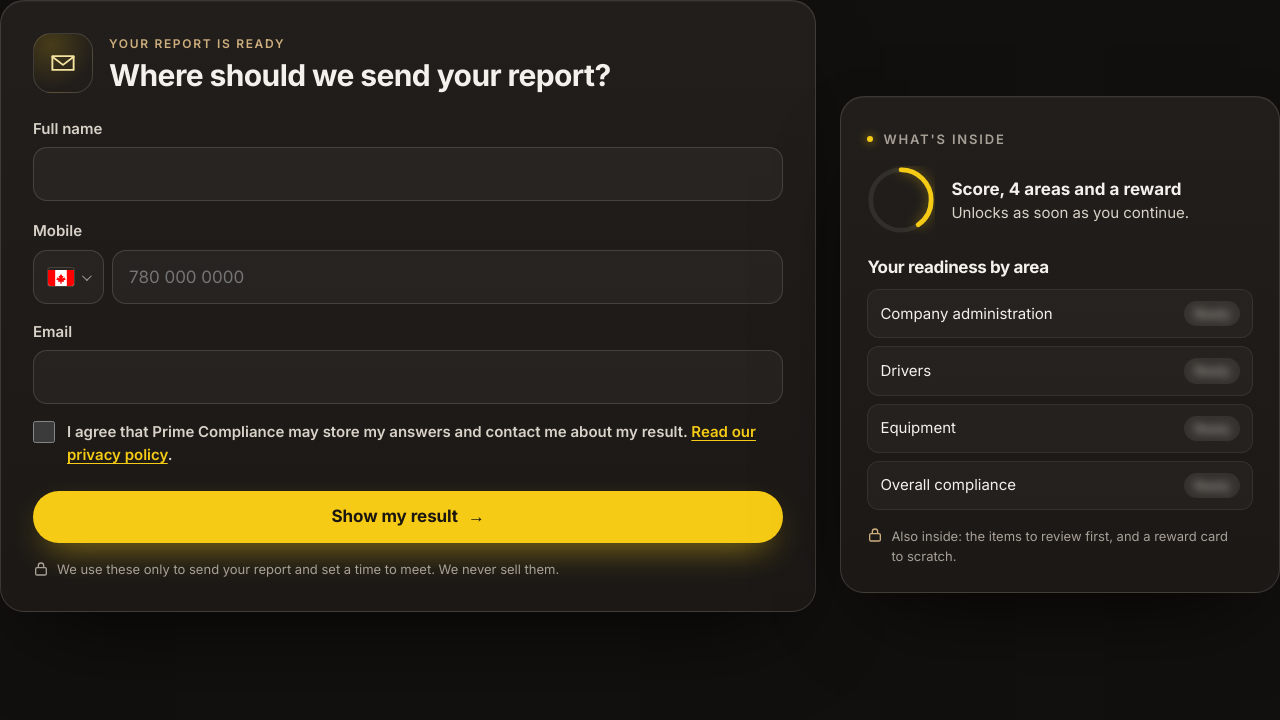
Test: <LeadStep /> › shows specific inline errors and focuses the first invalid field
The width and height of the screenshot is (1280, 720).
Step 1. Click the button "Show my result →" → (408, 517), box [33,491,783,543]
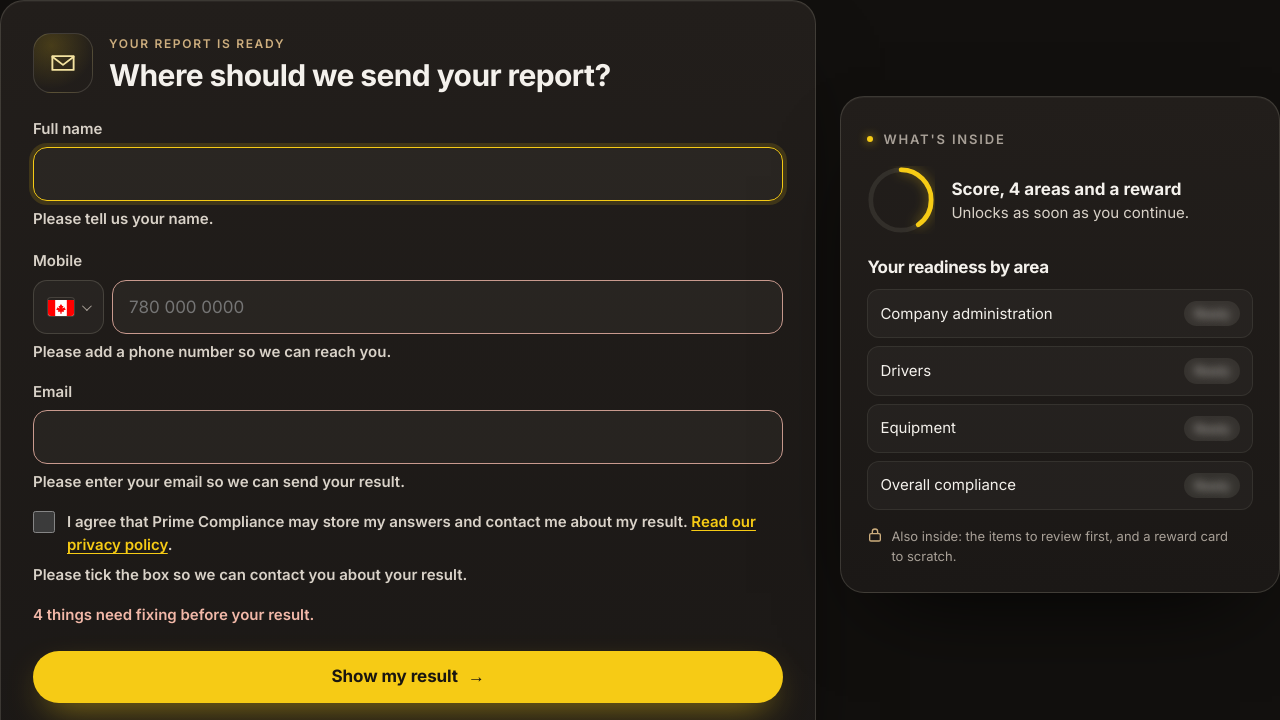
Check: the text "Please tell us your name." is shown, box [33,209,214,228]
Check: the text "Please enter your email so we can send your result." is shown, box [33,472,405,491]
Check: the text "Please add a phone number so we can reach you." is shown, box [33,342,391,361]
